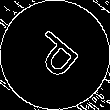P_SE: (24, 25, 86, 85)
